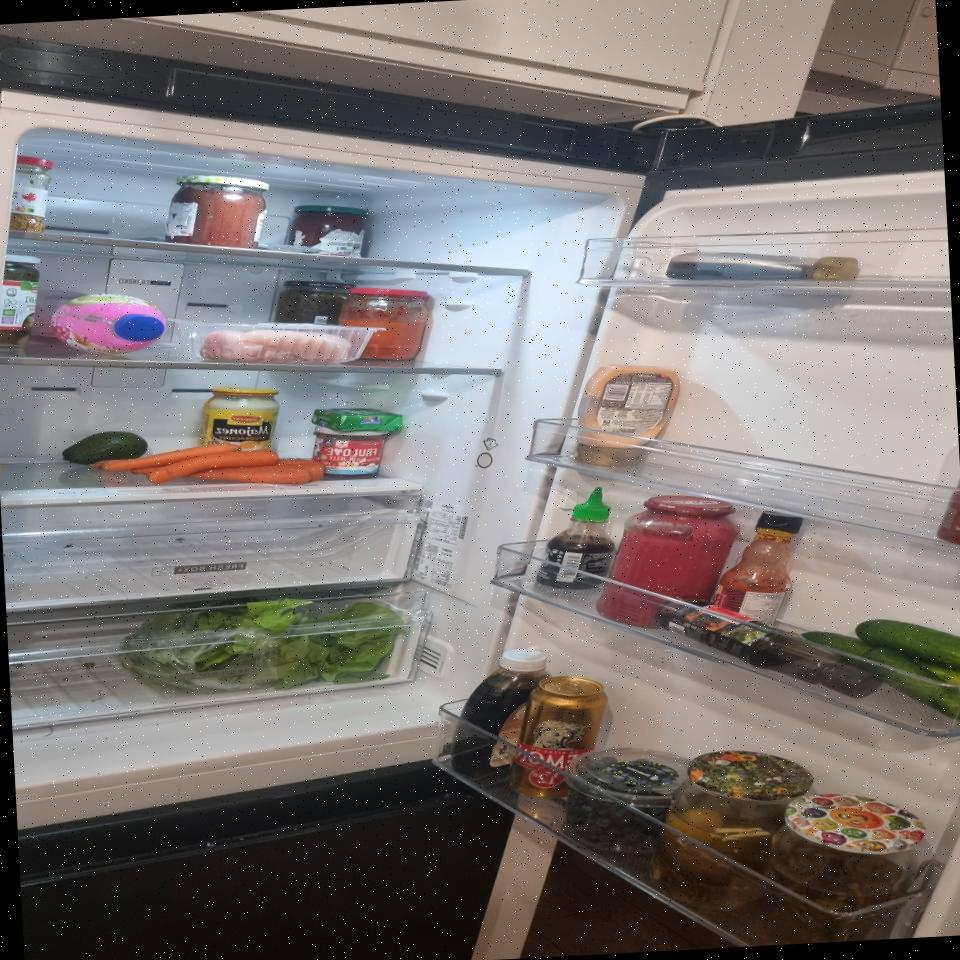Aguacate: (60, 429, 150, 467)
Carne pollo: (197, 323, 352, 369)
Lechuga/Endivia: (115, 588, 411, 700)
Mantequilla: (310, 405, 403, 436)
Pepino: (800, 613, 960, 731)
Zanahoria: (90, 437, 328, 495)
